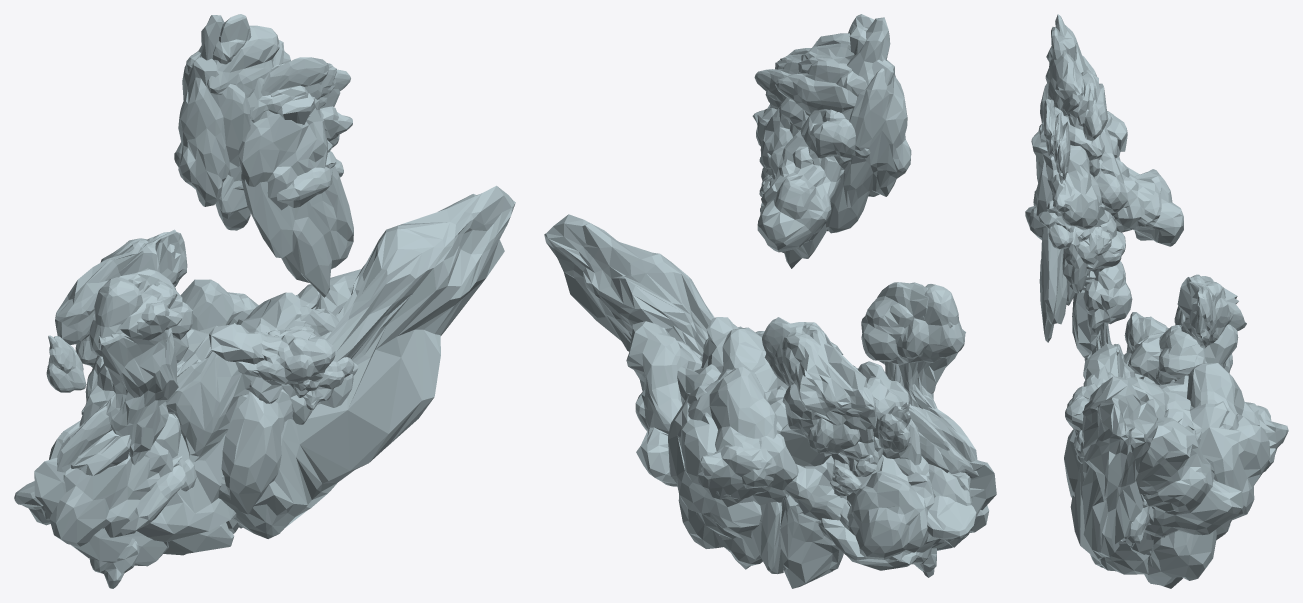
The model's file is Cloud_Ring_02.fbx.
3 renders of one model, left to right at view 1: azimuth 30°, elevation 25°; view 2: azimuth 150°, elevation 25°; view 3: azimuth 270°, elevation 25°, orthographic. The views are drawn at different scales.
Visible parts, largest first — view 1: Cloud_Ring_02; view 2: Cloud_Ring_02; view 3: Cloud_Ring_02.
Boxes of the visible parts, <box> form: Cloud_Ring_02: <box>14,14,515,588</box>; Cloud_Ring_02: <box>544,14,996,588</box>; Cloud_Ring_02: <box>1025,14,1288,588</box>.
Bounding box in the file's own units: 221 × 251 × 112.
